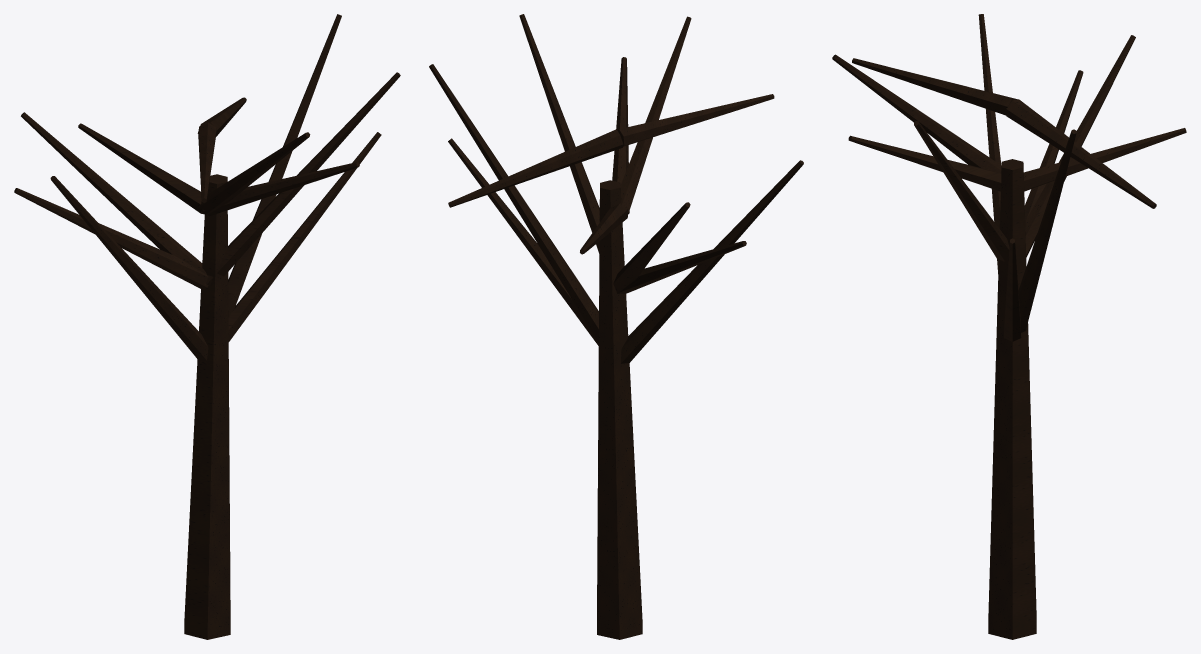
Rendered from PROP-B1192AF51085_lod2.glb.
3 renders of one model, left to right at view 1: azimuth 30°, elevation 25°; view 2: azimuth 150°, elevation 25°; view 3: azimuth 270°, elevation 25°, orthographic. The views are drawn at different scales.
Visible parts, largest first — view 1: branch.010, trunk.022; view 2: branch.010, trunk.022; view 3: branch.010, trunk.022.
Part boxes in pixels (x1,y1,x2,y2): branch.010: (14,14,400,360); trunk.022: (184,174,230,639); branch.010: (429,14,803,363); trunk.022: (597,180,642,639); branch.010: (832,14,1186,341); trunk.022: (988,159,1036,639).
Bounding box in the file's own units: 3.57 × 5.49 × 3.03.
Materials: 1 (1 with a texture image).
